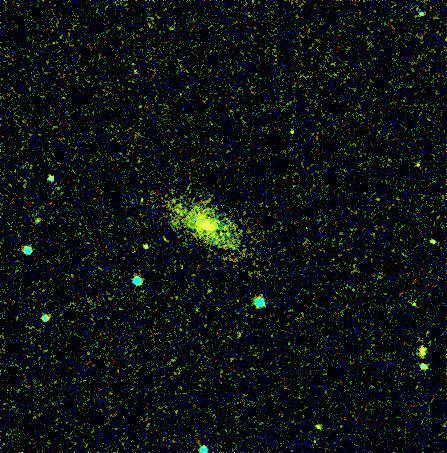star: (132, 232, 162, 262)
